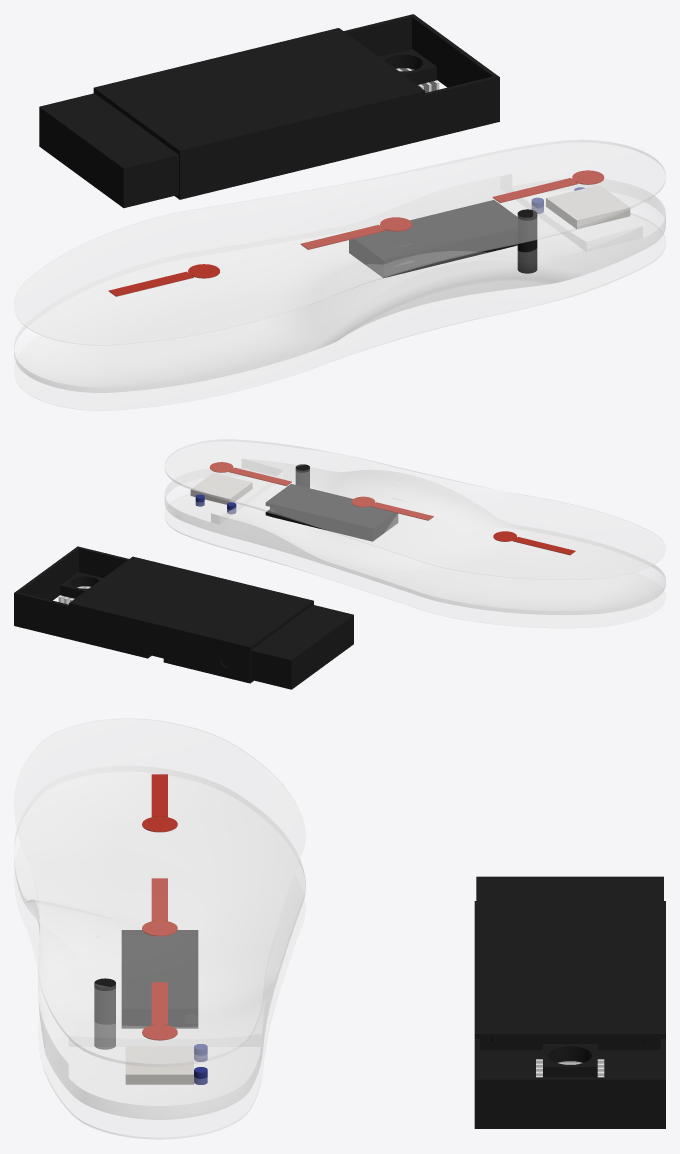
File: insole.glb
3 views of the same model, one above another, from view 1: azimuth 30°, elevation 25°; view 2: azimuth 150°, elevation 25°; view 3: azimuth 270°, elevation 25° (orthographic). The views are drawn at different scales.
Visible parts, largest first — view 1: Comfort Top Layer, Insole Base, Outsole Layer, Battery Bay Lid, External Compartment Shell, Battery (INIU P55, 10000mAh, 111.8x68.6x17.8mm), Enclosure Lid, Peltier Module (Dilwe TEC104901, 25x25x4mm), Enclosure Base, Fuse Holder (BOJACK 5x20mm inline, w/ 2A fuse), Cooling Fan (Easycargo 20x20x6mm, 5V), Pressure Sensor - Heel (+2 smaller); view 2: Comfort Top Layer, Insole Base, Outsole Layer, Battery Bay Lid, External Compartment Shell, Battery (INIU P55, 10000mAh, 111.8x68.6x17.8mm), Enclosure Lid, Enclosure Base, Peltier Module (Dilwe TEC104901, 25x25x4mm), Cooling Fan (Easycargo 20x20x6mm, 5V), Pressure Sensor - Heel, Pressure Sensor - Arch (+1 smaller); view 3: Comfort Top Layer, Insole Base, Battery Bay Lid, Outsole Layer, External Compartment Shell, Battery (INIU P55, 10000mAh, 111.8x68.6x17.8mm), Enclosure Lid, Peltier Module (Dilwe TEC104901, 25x25x4mm), Cooling Fan (Easycargo 20x20x6mm, 5V), Fuse Holder (BOJACK 5x20mm inline, w/ 2A fuse), Pressure Sensor - Heel, Pressure Sensor - Arch (+2 smaller).
Part boxes in pixels (x1=…): Comfort Top Layer: x1=14, y1=140, x2=665, y2=345; Insole Base: x1=14, y1=174, x2=665, y2=392; Outsole Layer: x1=14, y1=213, x2=665, y2=410; Battery Bay Lid: x1=93, y1=28, x2=425, y2=154; External Compartment Shell: x1=93, y1=14, x2=499, y2=199; Battery (INIU P55, 10000mAh, 111.8x68.6x17.8mm): x1=39, y1=93, x2=178, y2=207; Enclosure Lid: x1=350, y1=200, x2=517, y2=264; Peltier Module (Dilwe TEC104901, 25x25x4mm): x1=546, y1=185, x2=630, y2=228; Enclosure Base: x1=349, y1=232, x2=517, y2=278; Fuse Holder (BOJACK 5x20mm inline, w/ 2A fuse): x1=517, y1=209, x2=537, y2=273; Cooling Fan (Easycargo 20x20x6mm, 5V): x1=379, y1=49, x2=436, y2=84; Pressure Sensor - Heel: x1=492, y1=170, x2=604, y2=202; Comfort Top Layer: x1=165, y1=439, x2=665, y2=579; Insole Base: x1=165, y1=459, x2=665, y2=614; Outsole Layer: x1=165, y1=494, x2=665, y2=627; Battery Bay Lid: x1=69, y1=556, x2=313, y2=650; External Compartment Shell: x1=14, y1=546, x2=313, y2=683; Battery (INIU P55, 10000mAh, 111.8x68.6x17.8mm): x1=150, y1=605, x2=353, y2=689; Enclosure Lid: x1=265, y1=484, x2=397, y2=531; Enclosure Base: x1=265, y1=507, x2=397, y2=541; Peltier Module (Dilwe TEC104901, 25x25x4mm): x1=190, y1=473, x2=252, y2=504; Cooling Fan (Easycargo 20x20x6mm, 5V): x1=60, y1=572, x2=102, y2=598; Pressure Sensor - Heel: x1=209, y1=462, x2=291, y2=485; Pressure Sensor - Arch: x1=351, y1=496, x2=433, y2=520; Comfort Top Layer: x1=14, y1=718, x2=305, y2=1066; Insole Base: x1=14, y1=766, x2=305, y2=1119; Battery Bay Lid: x1=474, y1=901, x2=665, y2=1041; Outsole Layer: x1=14, y1=845, x2=305, y2=1139; External Compartment Shell: x1=474, y1=1039, x2=665, y2=1128; Battery (INIU P55, 10000mAh, 111.8x68.6x17.8mm): x1=476, y1=876, x2=663, y2=1049; Enclosure Lid: x1=121, y1=930, x2=198, y2=1014; Peltier Module (Dilwe TEC104901, 25x25x4mm): x1=125, y1=1046, x2=193, y2=1084; Cooling Fan (Easycargo 20x20x6mm, 5V): x1=543, y1=1044, x2=597, y2=1077; Fuse Holder (BOJACK 5x20mm inline, w/ 2A fuse): x1=94, y1=978, x2=115, y2=1049; Pressure Sensor - Heel: x1=142, y1=982, x2=177, y2=1040; Pressure Sensor - Arch: x1=142, y1=878, x2=177, y2=936.
Size of the model in its own units: 0.301 by 0.032 by 0.2383.
